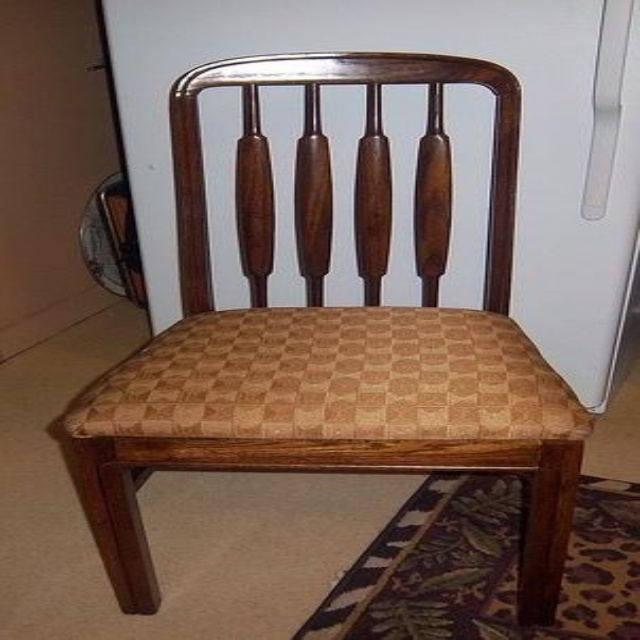obstacle: (64, 52, 589, 623)
